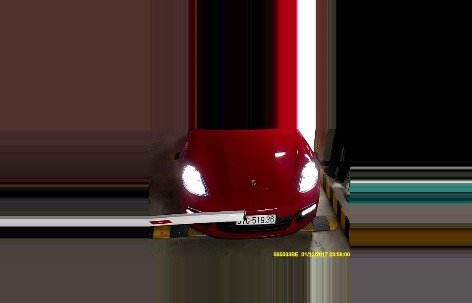plate: (235, 213, 277, 224)
